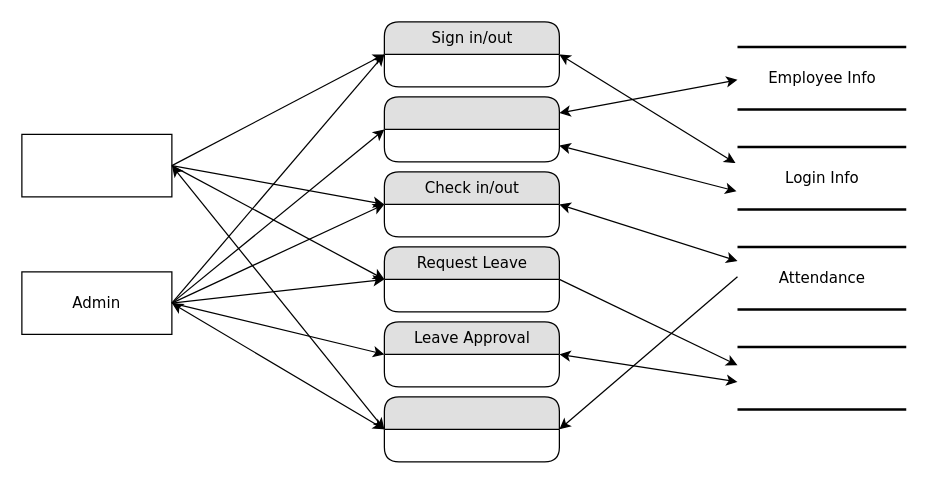
Image size: 929x484. Some labels were removed from this diagram. The shapes that lost their labels are listed below. From the top down, each one's centre as x and y in pixels, then its label:
At (471,129): "Register Employee".
At (96,165): "Employee".
At (821,377): "Leave Application".
At (471,429): "Print Statistics".
